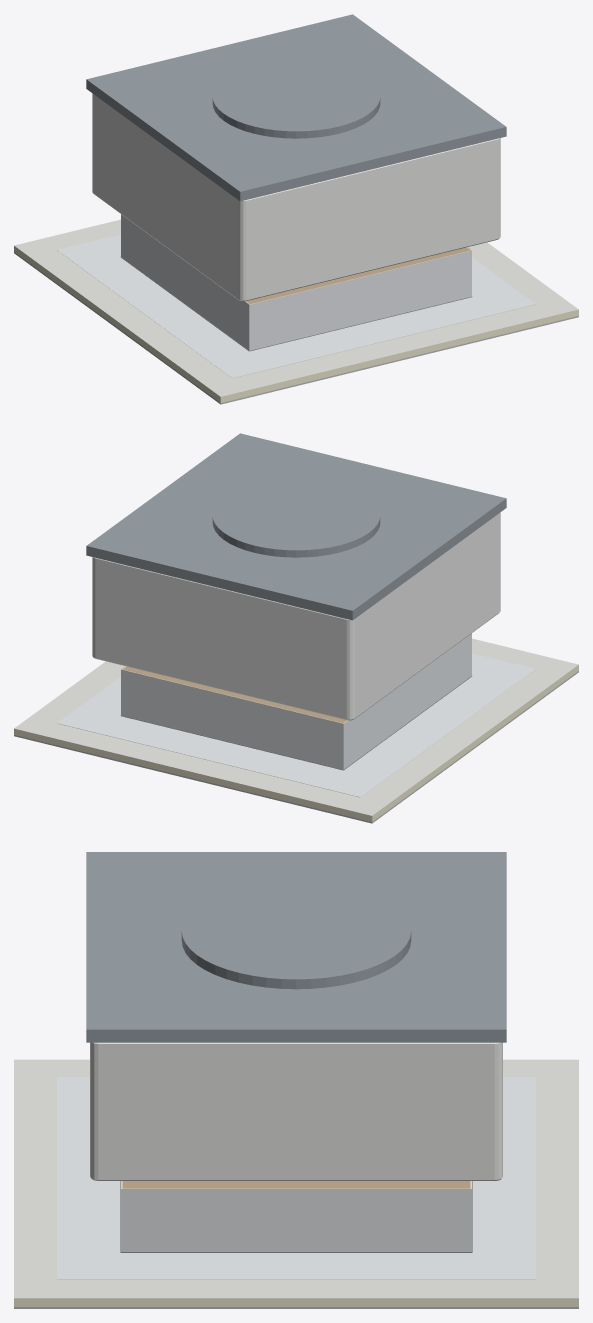
File: curb-mounted-unit-CS-1-TYP.glb
The picture shows the model from 3 angles, top to bottom: view 1: azimuth 30°, elevation 25°; view 2: azimuth 150°, elevation 25°; view 3: azimuth 270°, elevation 25°; orthographic projection. The views are drawn at different scales.
Parts seen in each view (by area): view 1: existing__unit_body, existing__unit_top, topcoat__curb_wrap, topcoat__field_apron, existing__membrane, existing__unit_fan, existing__insulation, existing__steel_deck, existing__nailer; view 2: existing__unit_body, existing__unit_top, topcoat__curb_wrap, topcoat__field_apron, existing__membrane, existing__unit_fan, existing__insulation, existing__steel_deck, existing__nailer; view 3: existing__unit_top, existing__unit_body, existing__membrane, topcoat__field_apron, topcoat__curb_wrap, existing__unit_fan, existing__insulation, existing__nailer, existing__steel_deck.
Boxes of the visible parts, left/top/right/bottom form: existing__unit_body: left=92, top=93, right=500, bottom=301; existing__unit_top: left=86, top=14, right=506, bottom=201; topcoat__curb_wrap: left=121, top=214, right=471, bottom=350; topcoat__field_apron: left=57, top=234, right=535, bottom=378; existing__membrane: left=14, top=219, right=578, bottom=396; existing__unit_fan: left=212, top=60, right=380, bottom=138; existing__insulation: left=14, top=246, right=578, bottom=402; existing__steel_deck: left=14, top=252, right=578, bottom=404; existing__nailer: left=246, top=247, right=469, bottom=304; existing__unit_body: left=92, top=512, right=500, bottom=720; existing__unit_top: left=86, top=433, right=506, bottom=620; topcoat__curb_wrap: left=121, top=633, right=471, bottom=769; topcoat__field_apron: left=57, top=653, right=535, bottom=797; existing__membrane: left=14, top=638, right=578, bottom=815; existing__unit_fan: left=212, top=479, right=380, bottom=557; existing__insulation: left=14, top=665, right=578, bottom=821; existing__steel_deck: left=14, top=671, right=578, bottom=823; existing__nailer: left=123, top=666, right=346, bottom=723; existing__unit_top: left=86, top=852, right=506, bottom=1042; existing__unit_body: left=90, top=1042, right=502, bottom=1180; existing__membrane: left=14, top=1059, right=578, bottom=1298; topcoat__field_apron: left=57, top=1077, right=535, bottom=1279; topcoat__curb_wrap: left=121, top=1181, right=471, bottom=1251; existing__unit_fan: left=181, top=882, right=411, bottom=989; existing__insulation: left=14, top=1298, right=578, bottom=1306; existing__nailer: left=122, top=1181, right=470, bottom=1188; existing__steel_deck: left=14, top=1307, right=578, bottom=1308.
Bounding box in the file's own units: 3.96 × 2 × 3.96.
